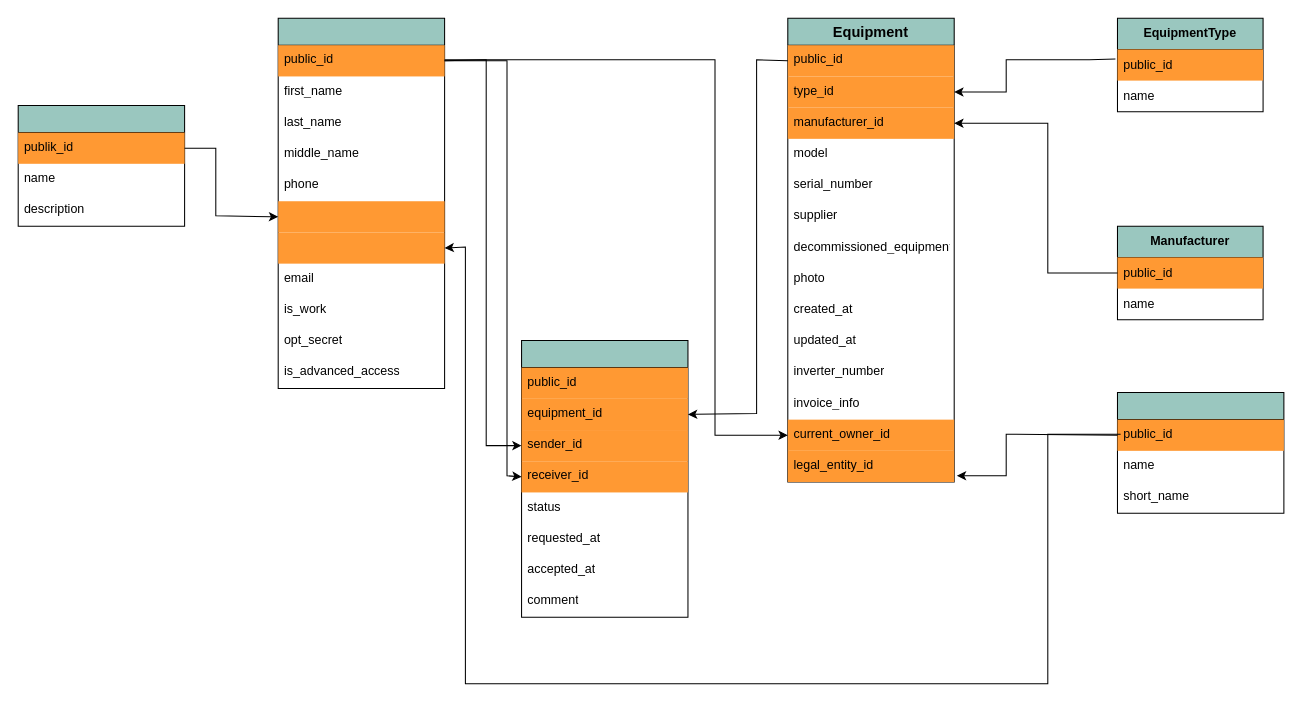
This 1302x710 diagram has some shape labels left out. The box of each missing label's shape, as (x1, y1, x2, y2) in pixels:
LegalEntity: (1116, 392, 1284, 513)
organization_id: (278, 232, 444, 263)
Position: (17, 105, 185, 226)
position_id: (278, 201, 444, 232)
TransferRequest: (521, 340, 688, 617)
Users: (277, 17, 445, 388)
